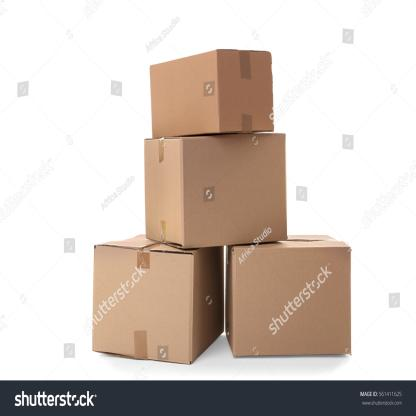box: (233, 246, 351, 358), (93, 246, 195, 363), (183, 133, 287, 247), (217, 48, 274, 132)
